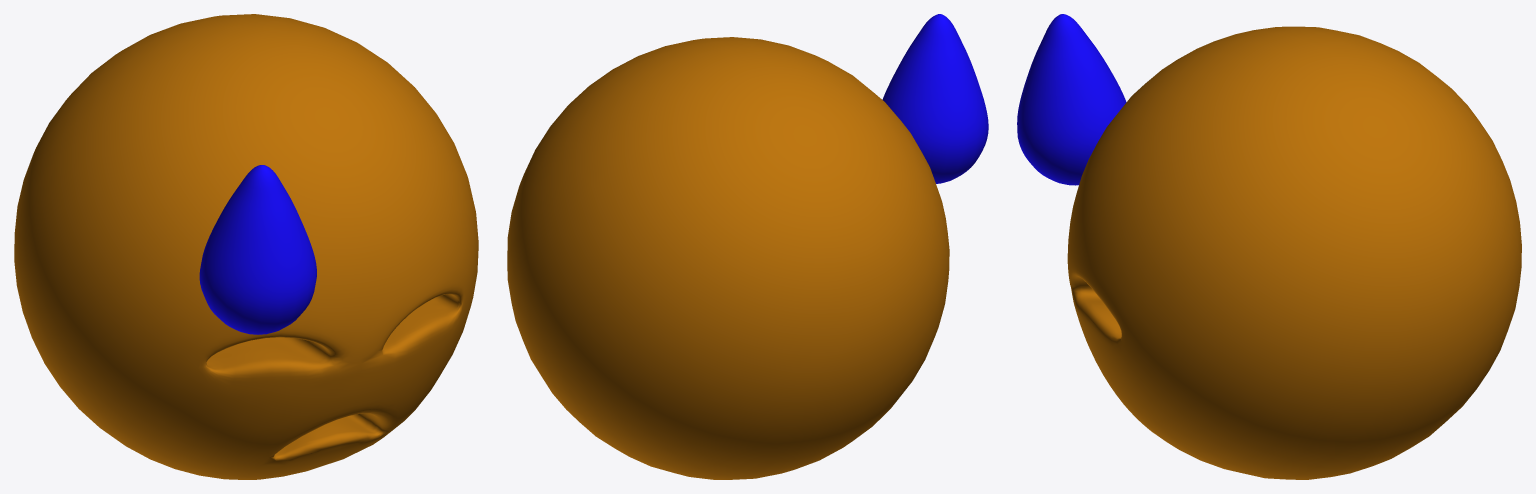
File: dissapointed relieved.FBX
3 views of the same model, side by side, from view 1: azimuth 30°, elevation 25°; view 2: azimuth 150°, elevation 25°; view 3: azimuth 270°, elevation 25° (orthographic). The views are drawn at different scales.
Visible parts, largest first — view 1: Group64891, Group33367; view 2: Group64891, Group33367; view 3: Group64891, Group33367.
Boxes of the visible parts, x1=… form: Group64891: x1=14, y1=14, x2=478, y2=479; Group33367: x1=199, y1=165, x2=316, y2=334; Group64891: x1=507, y1=37, x2=949, y2=479; Group33367: x1=882, y1=14, x2=988, y2=183; Group64891: x1=1067, y1=26, x2=1521, y2=479; Group33367: x1=1017, y1=14, x2=1126, y2=185.
Bounding box in the file's own units: 23.57 × 23.65 × 26.24.
